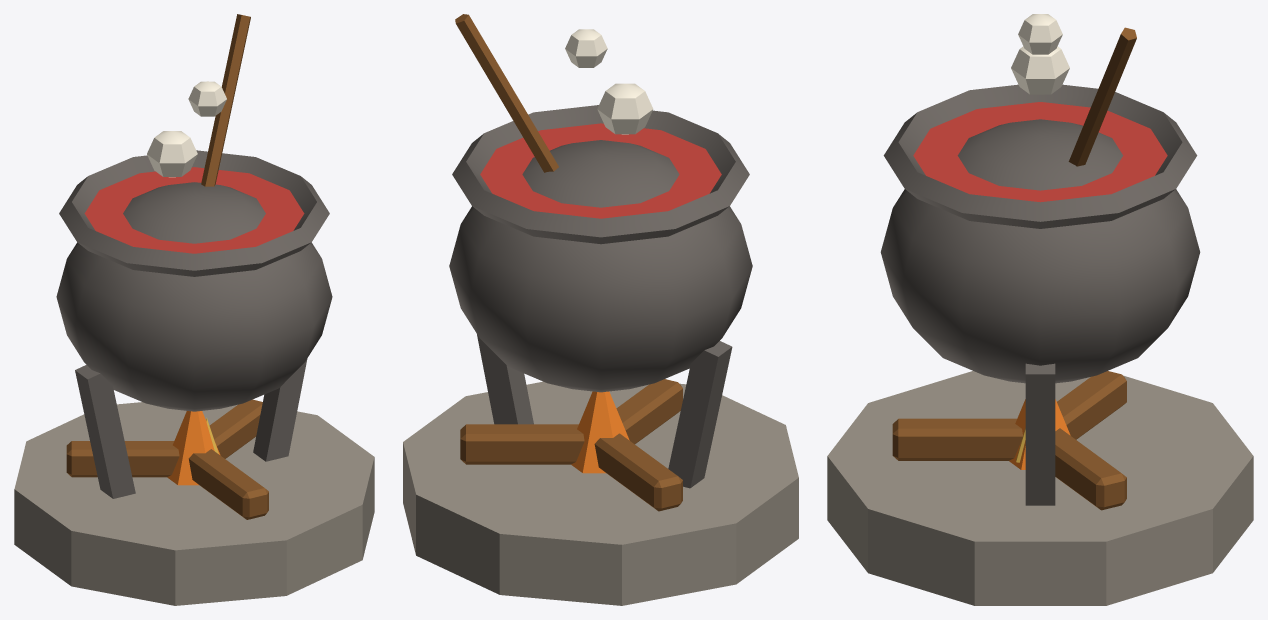
The model's file is PR_Station_Kazan_T1.fbx.
3 renders of one model, left to right at view 1: azimuth 30°, elevation 25°; view 2: azimuth 150°, elevation 25°; view 3: azimuth 270°, elevation 25°, orthographic. The views are drawn at different scales.
Parts seen in each view (by area): view 1: PR_Station_Kazan_T1; view 2: PR_Station_Kazan_T1; view 3: PR_Station_Kazan_T1.
Boxes of the visible parts, <box> form: PR_Station_Kazan_T1: <box>14,14,374,605</box>; PR_Station_Kazan_T1: <box>403,14,798,605</box>; PR_Station_Kazan_T1: <box>827,14,1253,605</box>.
Bounding box in the file's own units: 0.6848 × 1.01 × 0.72.
